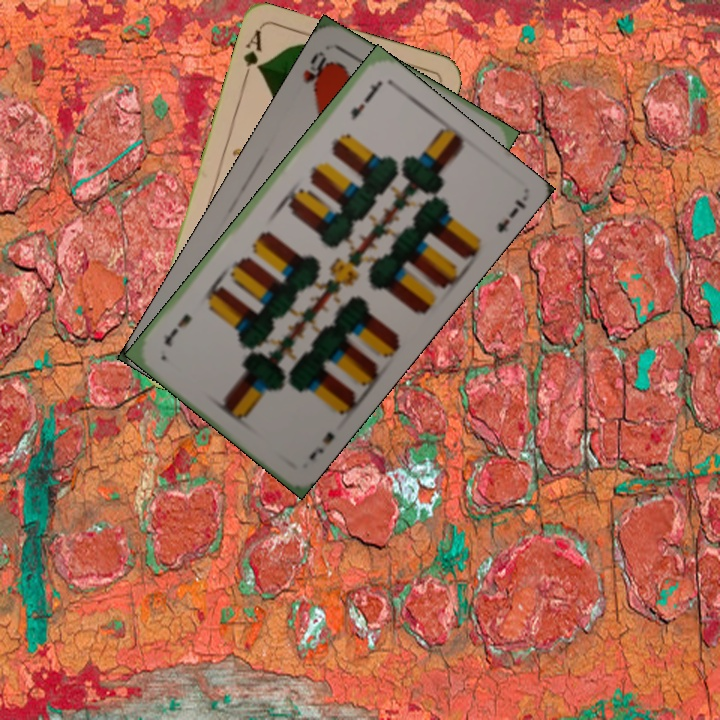E7: (346, 78, 384, 123), (304, 428, 337, 463)
GA: (239, 25, 265, 84)
HO: (298, 47, 335, 94)
